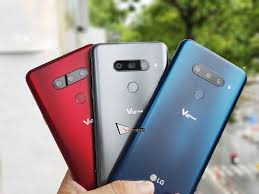lg: (101, 34, 246, 194)
